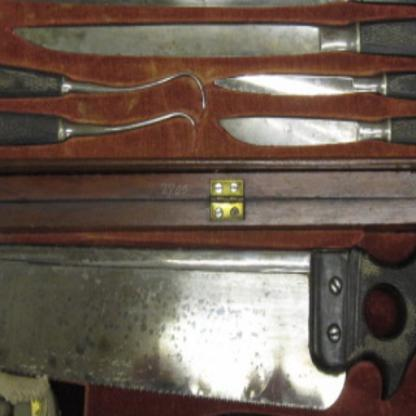knife: (0, 235, 415, 415), (14, 17, 415, 53), (218, 116, 415, 158), (214, 67, 415, 106)
